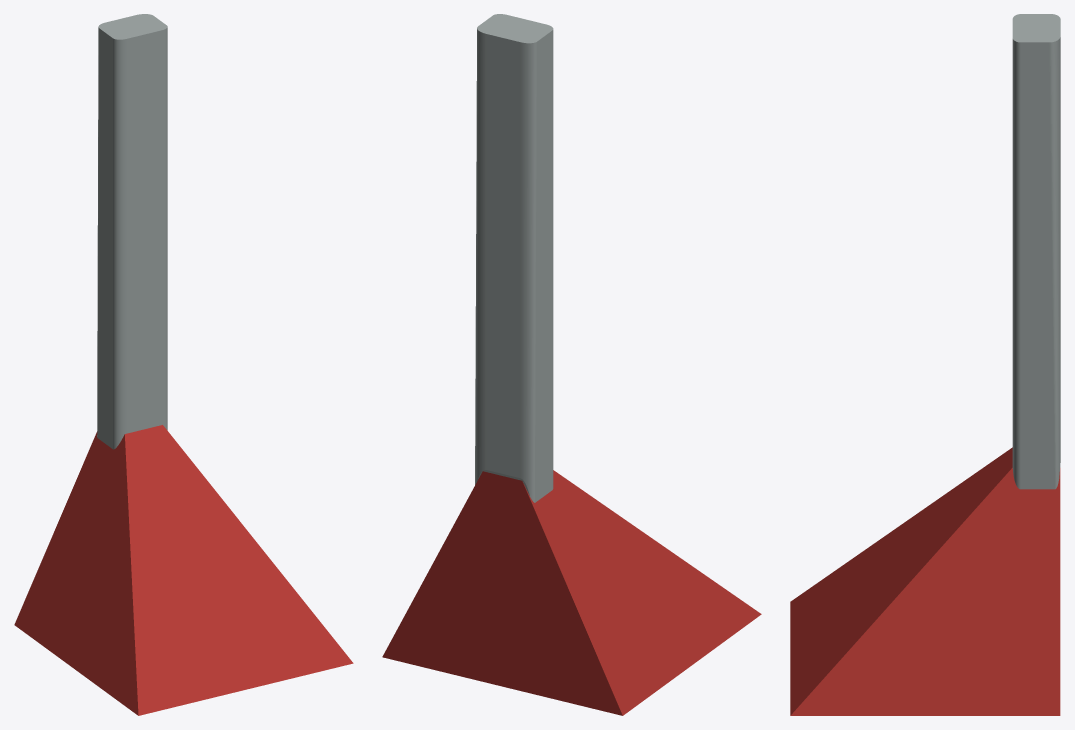
Rendered from vaccuum.fbx.
3 views of the same model, side by side, from view 1: azimuth 30°, elevation 25°; view 2: azimuth 150°, elevation 25°; view 3: azimuth 270°, elevation 25° (orthographic). The views are drawn at different scales.
Parts seen in each view (by area): view 1: vaccuum_head, handle; view 2: vaccuum_head, handle; view 3: vaccuum_head, handle.
Part boxes in pixels (box(x1,y1,x2,y2)): vaccuum_head: box(14, 425, 353, 715); handle: box(97, 14, 167, 449); vaccuum_head: box(382, 470, 761, 715); handle: box(475, 14, 553, 502); vaccuum_head: box(790, 447, 1060, 715); handle: box(1012, 14, 1060, 489).
Bounding box in the file's own units: 152 × 392 × 152.
